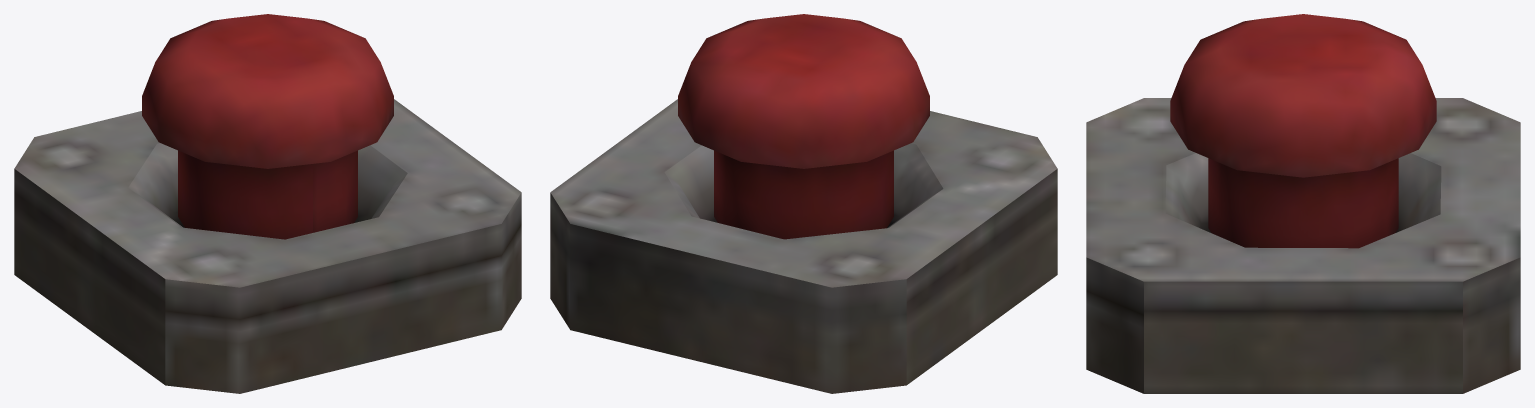
The model's file is computer_parts_button_large.dae.
The picture shows the model from 3 angles, left to right: view 1: azimuth 30°, elevation 25°; view 2: azimuth 150°, elevation 25°; view 3: azimuth 270°, elevation 25°; orthographic projection. The views are drawn at different scales.
Parts seen in each view (by area): view 1: emergency_button__2_, button; view 2: emergency_button__2_, button; view 3: emergency_button__2_, button.
Boxes of the visible parts, x1,y1,x2,y2 form: emergency_button__2_: [14, 99, 521, 393]; button: [142, 14, 393, 239]; emergency_button__2_: [550, 99, 1057, 393]; button: [678, 14, 929, 239]; emergency_button__2_: [1086, 98, 1520, 393]; button: [1170, 14, 1436, 248].
Size of the model in its own units: 0.0625 by 0.04 by 0.0625.
